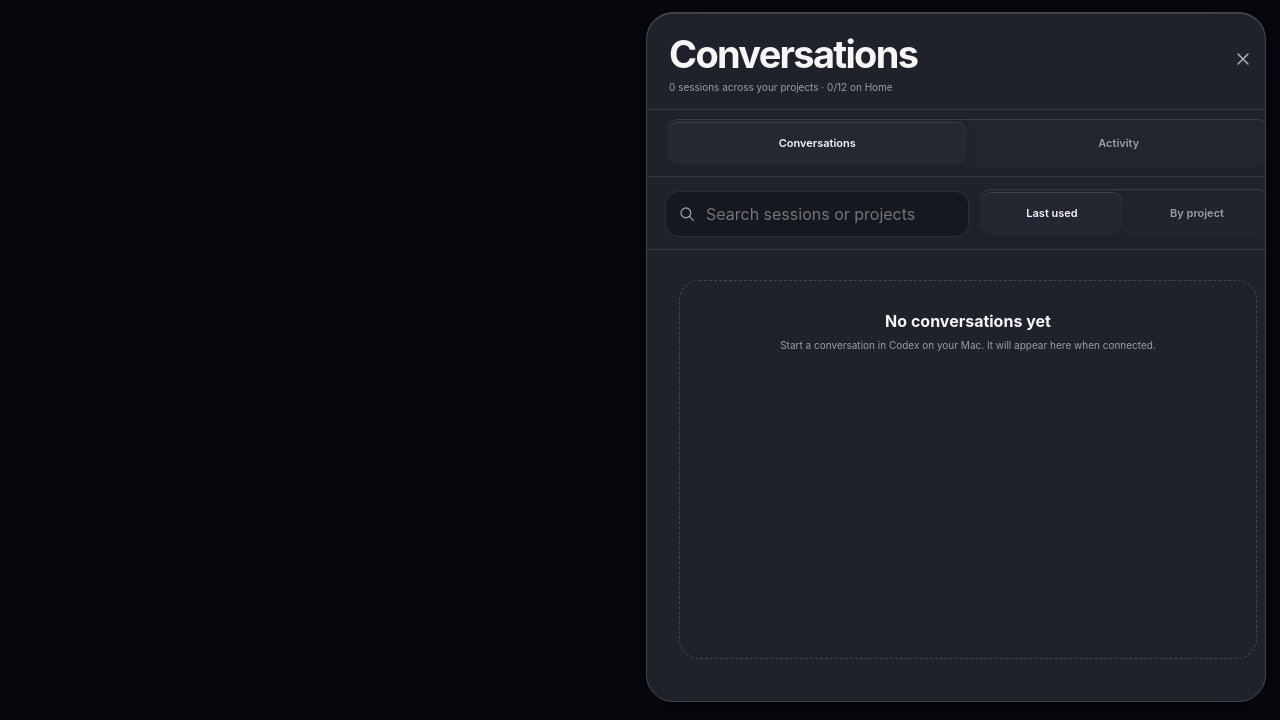
it: explains a genuinely empty catalog without claiming all conversations are pinned
Expected: the text "No conversations yet" is shown, [885, 311, 1051, 331]
Expected: the text "Start a conversation in Codex on your Mac" is shown, [780, 339, 1156, 351]
Step 1. Type "missing" into the field labelled "Search sessions" → point(830, 214), box [704, 203, 956, 225]
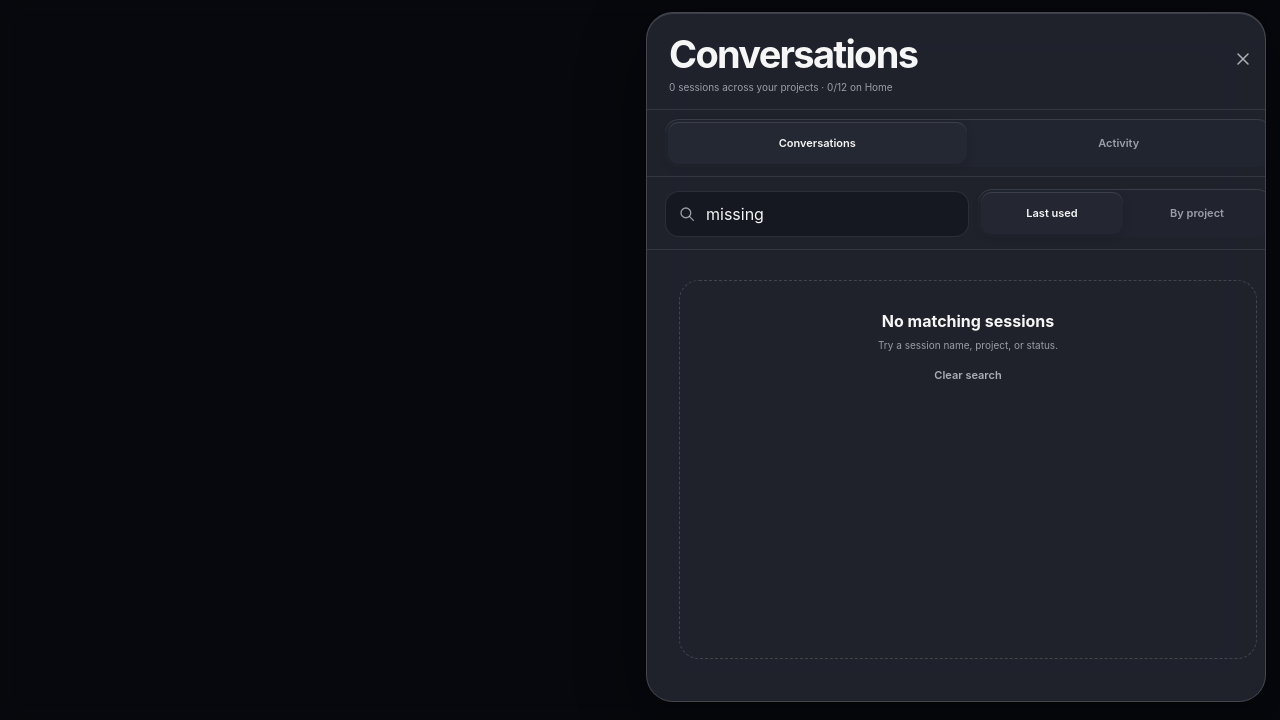
Result: the text "No matching sessions" is shown at [882, 311, 1054, 331]
